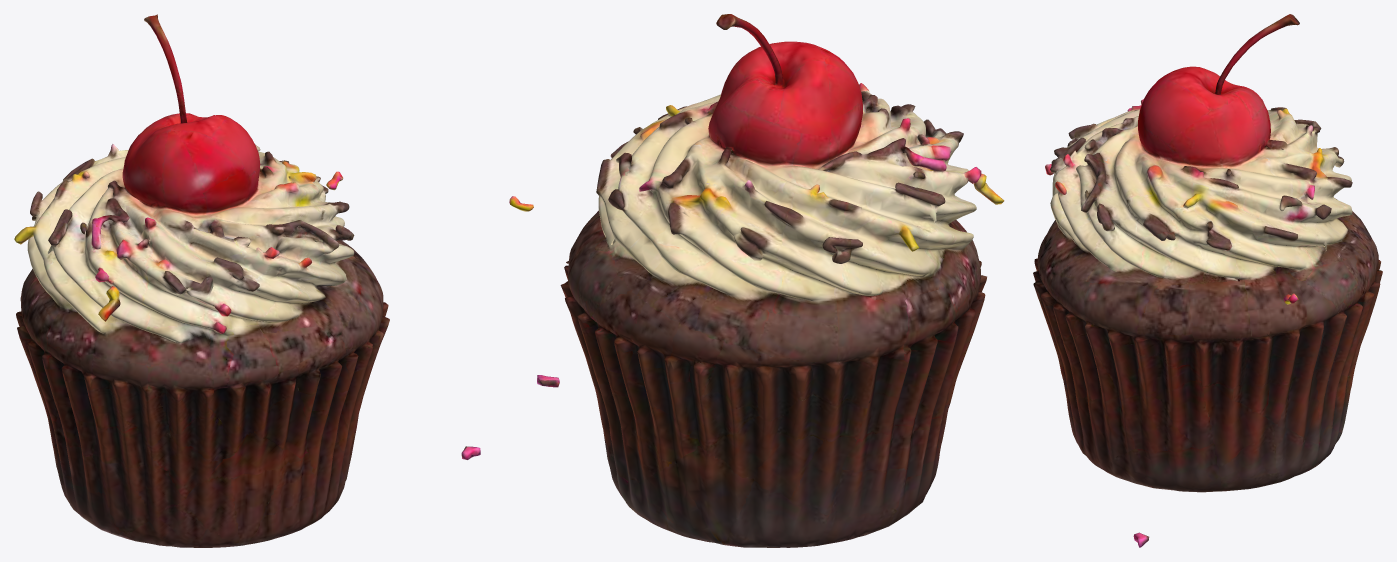
The picture shows the model from 3 angles, left to right: view 1: azimuth 30°, elevation 25°; view 2: azimuth 150°, elevation 25°; view 3: azimuth 270°, elevation 25°; orthographic projection. The views are drawn at different scales.
Size of the model in its own units: 1.59 by 1.68 by 1.26.
Materials: 1 (1 with a texture image).
